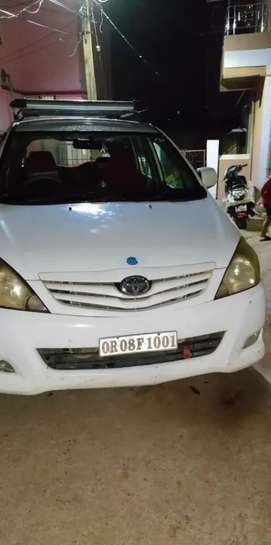OR08F1001: (99, 330, 177, 357)
